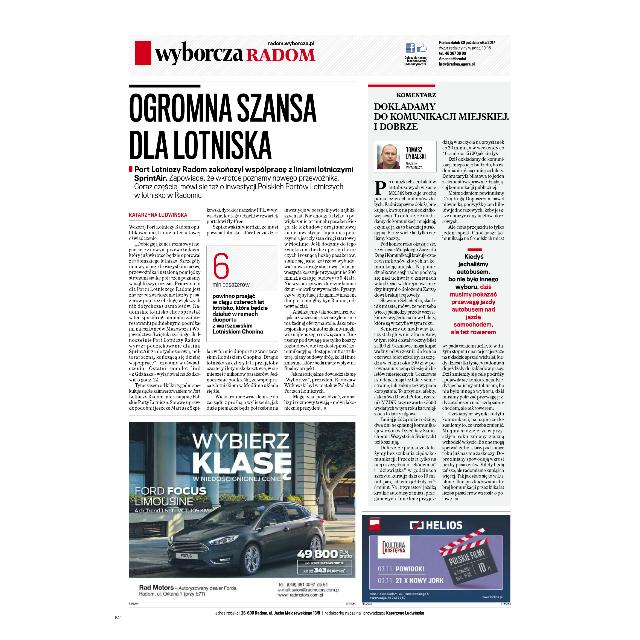article: (125, 82, 358, 414), (368, 82, 508, 504)
